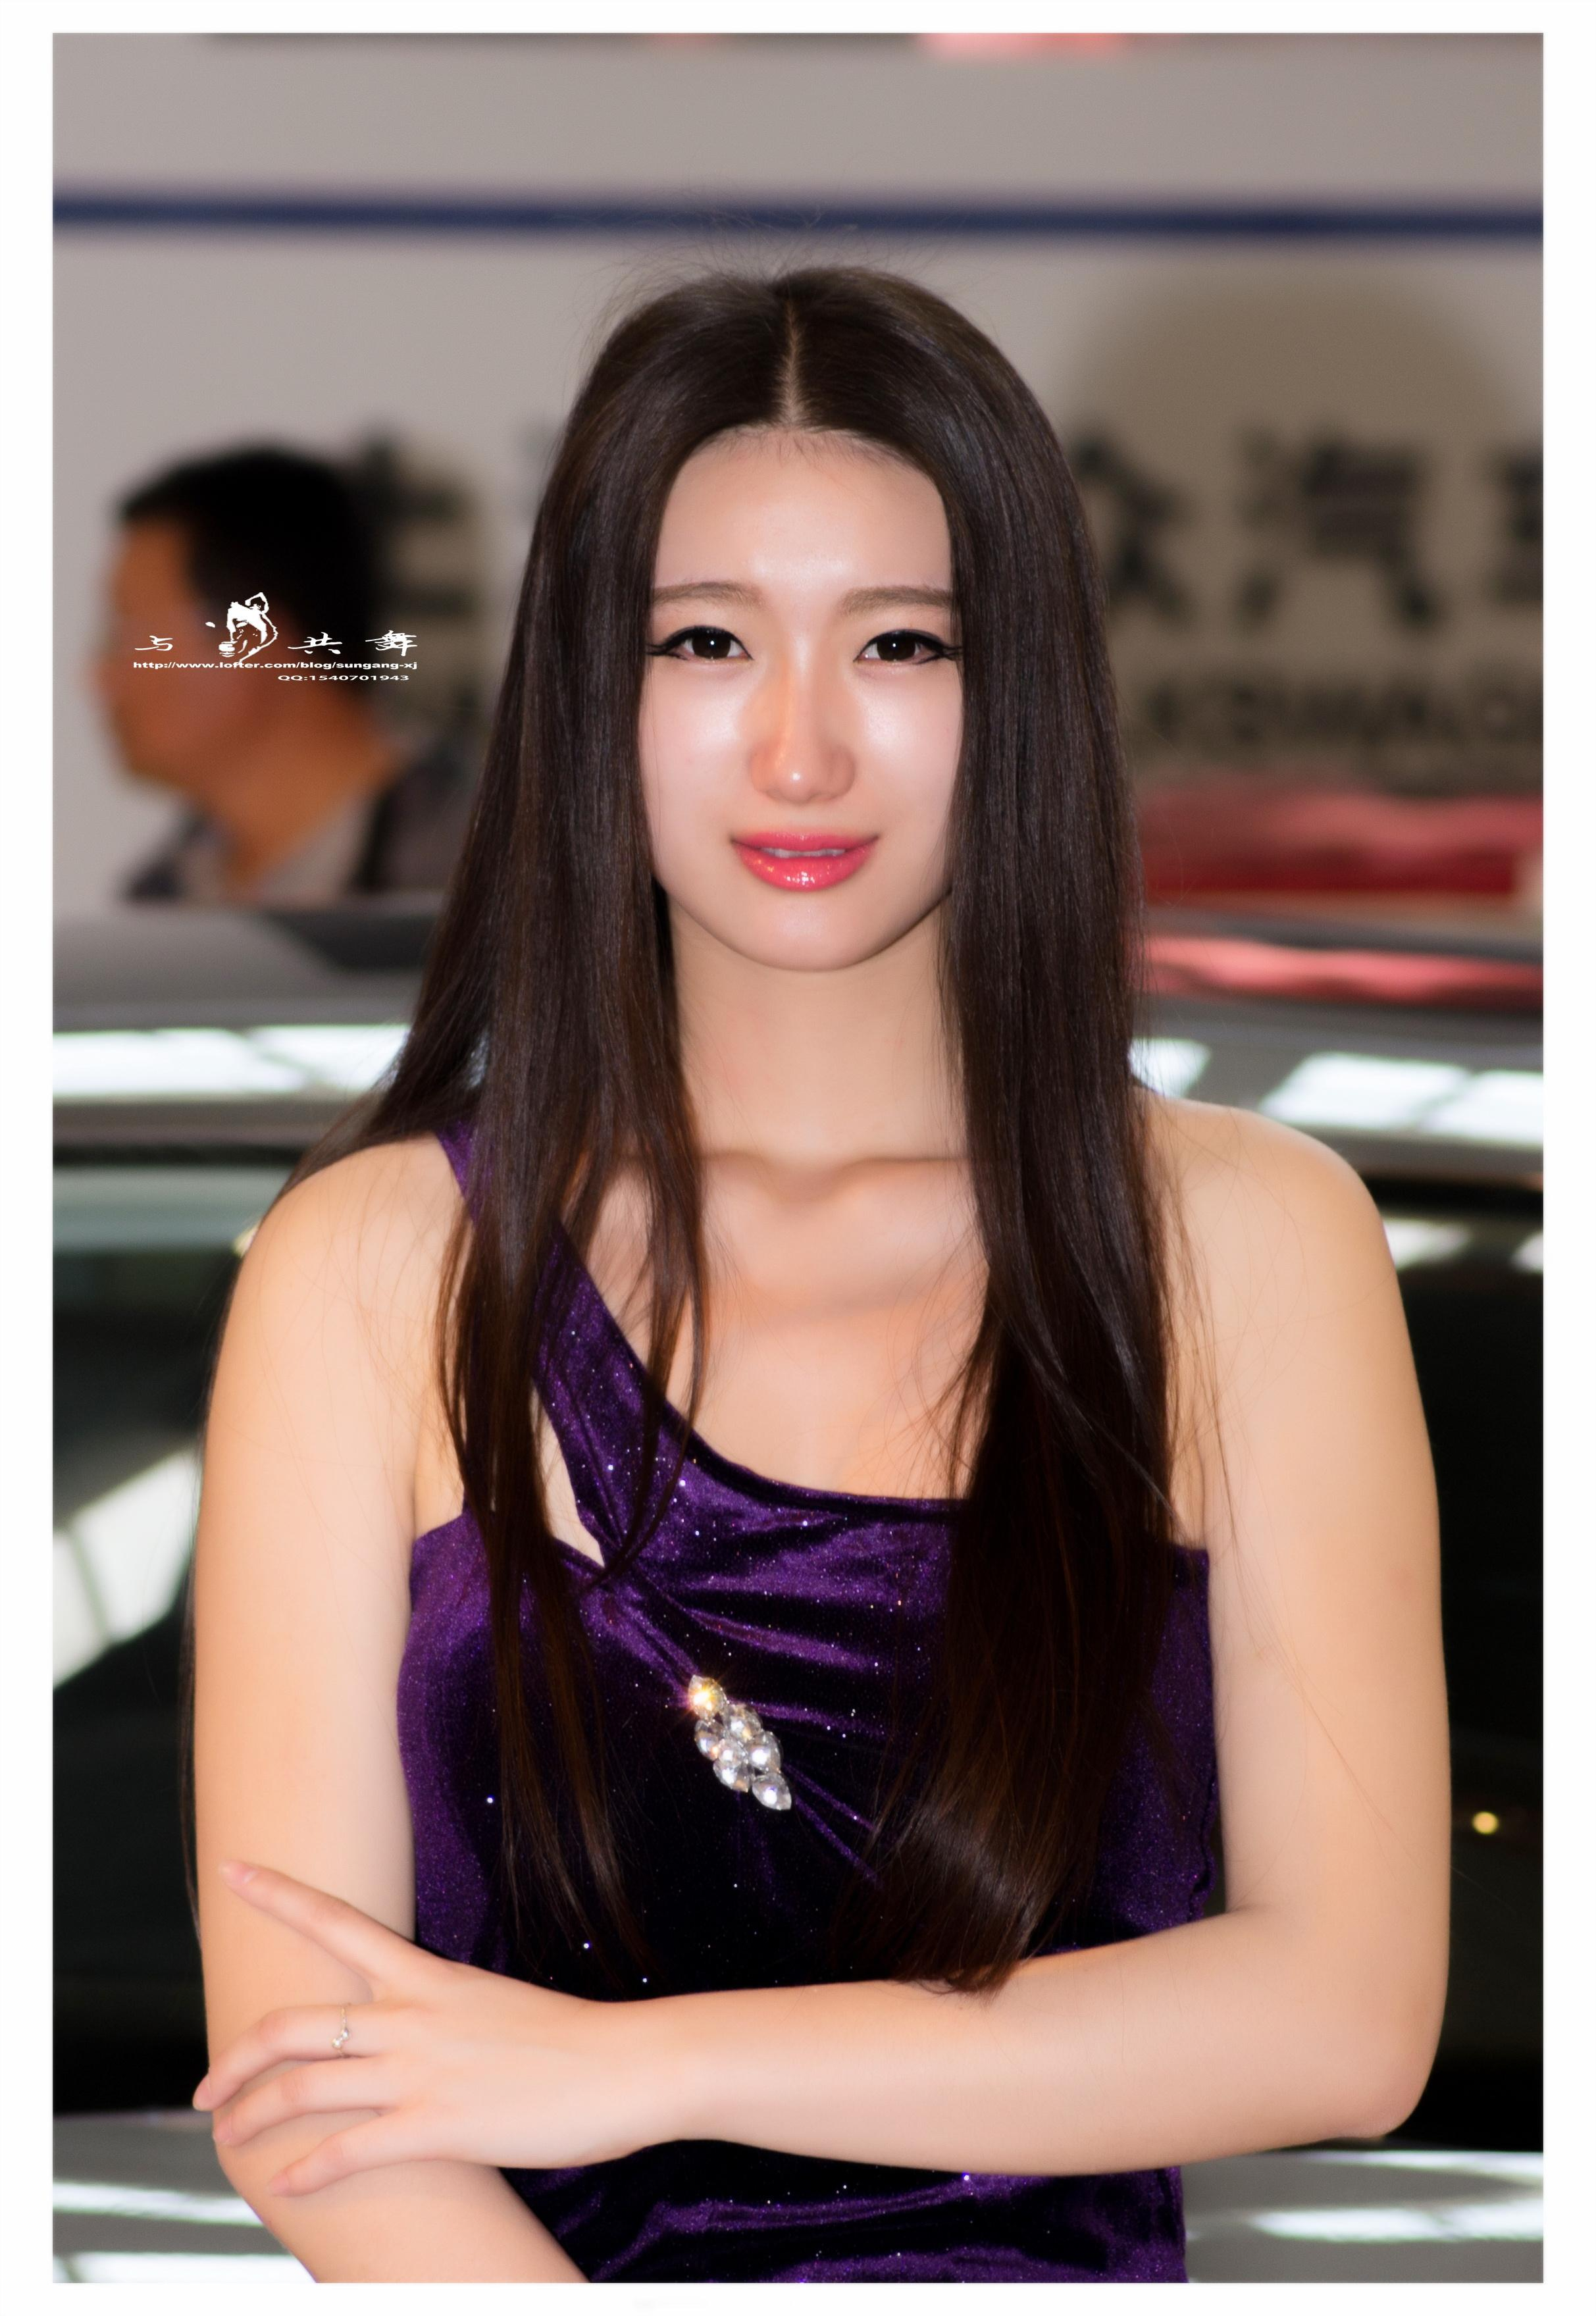person: (230, 216, 1500, 1891)
